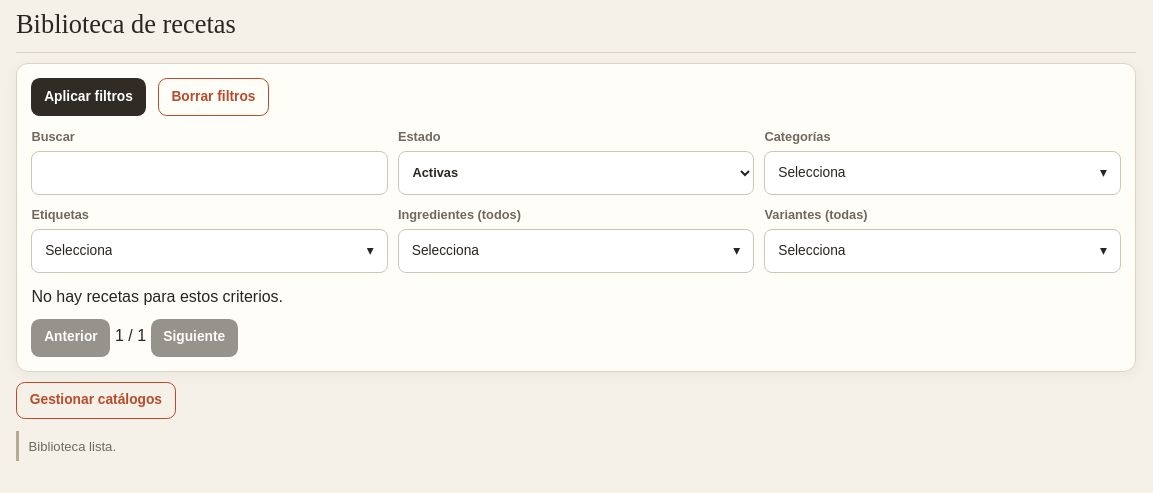
Test: ignores a late filtered response after clearing, including its pagination
The width and height of the screenshot is (1153, 493).
Expected: the text "Biblioteca lista." is shown, [16,431,1136,461]
Type "viejo" into the field labelled "Buscar" at (209, 173), box [31,151,388,195]
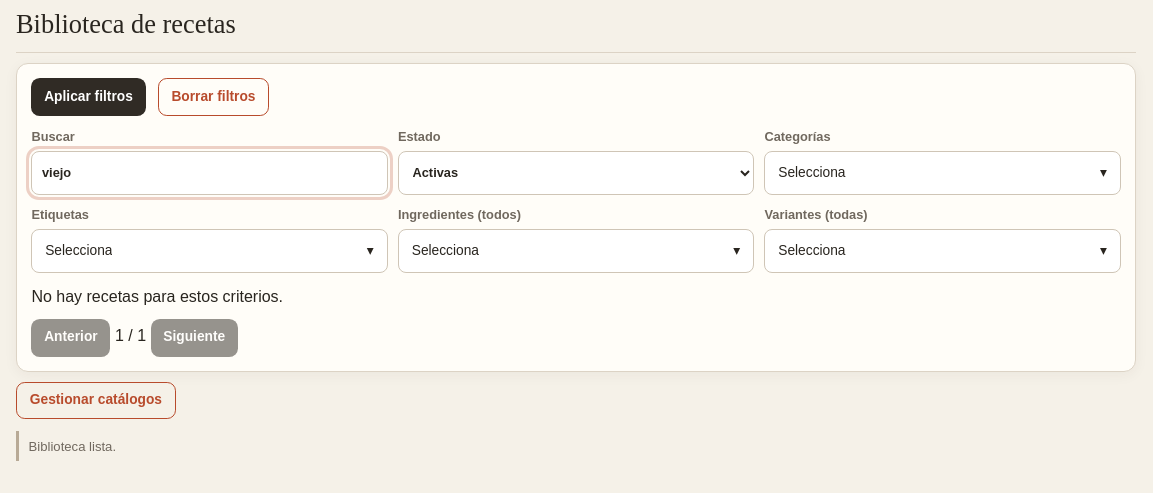
Click the button "Aplicar filtros" at (88, 97), box [31,78,146,116]
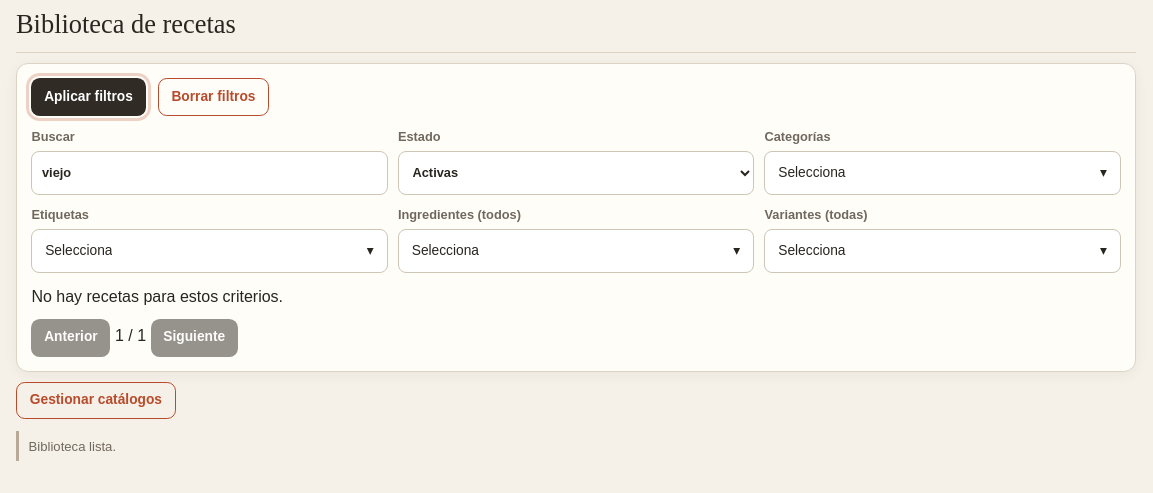
Click the button "Borrar filtros" at (213, 97), box [158,78,269,116]
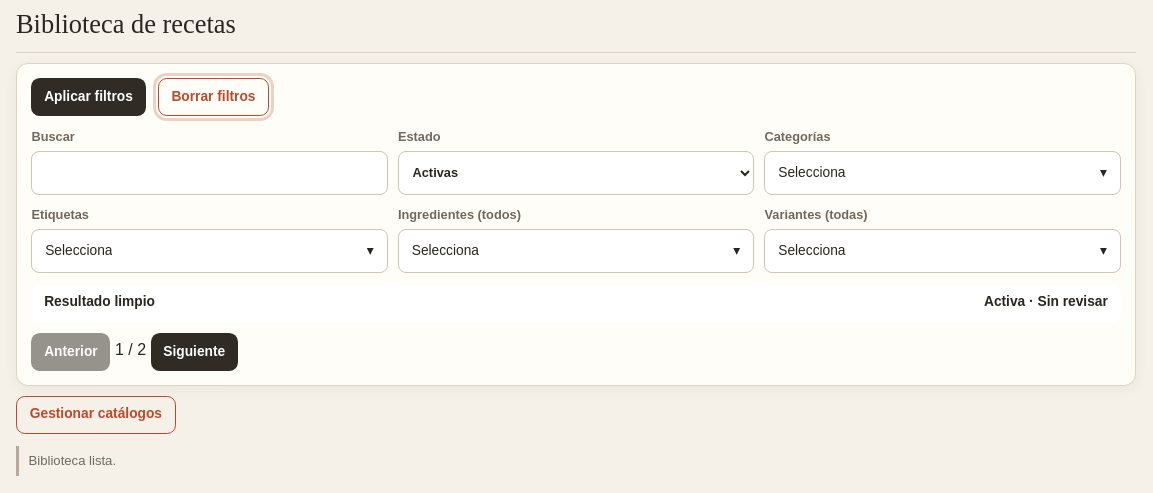
Expected: the button "Resultado limpio Activa · Sin revisar" is shown, [31,284,1121,322]
Expected: the text "1 / 2" is shown, [115,342,146,359]
